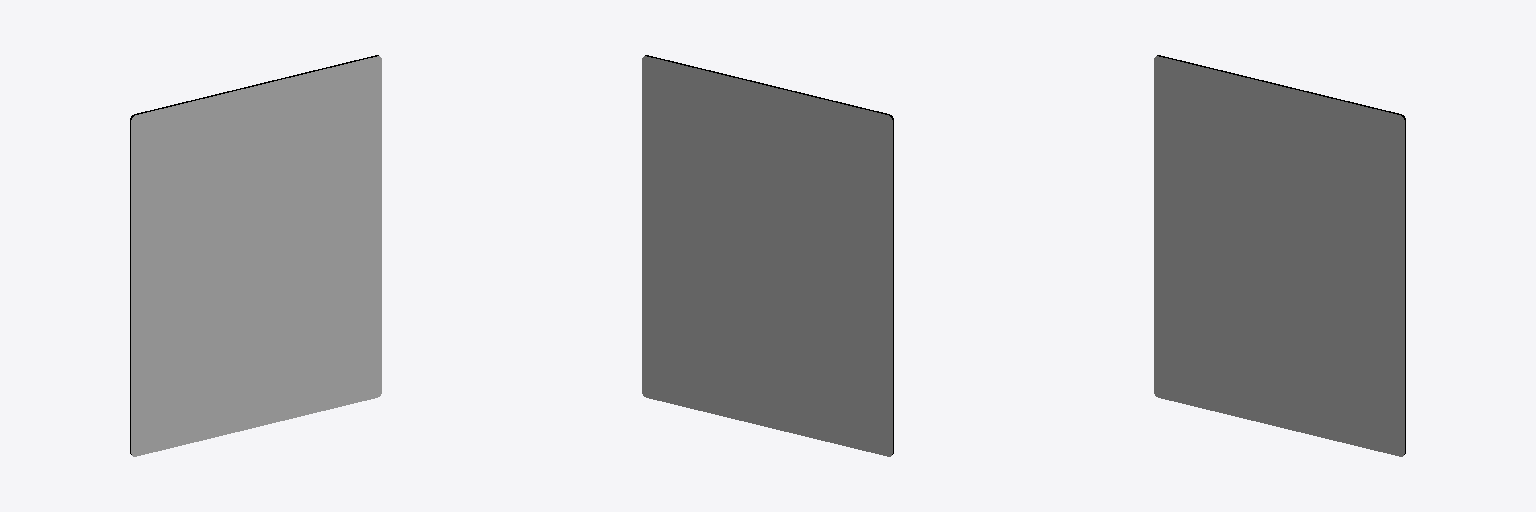
Rendered from Obelisk.obj.
The picture shows the model from 3 angles: view 1: azimuth 30°, elevation 25°; view 2: azimuth 150°, elevation 25°; view 3: azimuth 330°, elevation 25°; orthographic projection.
Visible parts, largest first — view 1: Card_Cube.001; view 2: Card_Cube.001; view 3: Card_Cube.001.
Part boxes in pixels (bbox=[...]): Card_Cube.001: bbox=[130, 55, 381, 456]; Card_Cube.001: bbox=[642, 55, 893, 456]; Card_Cube.001: bbox=[1154, 55, 1405, 456].
Size of the model in its own units: 2 by 2.6 by 0.02.